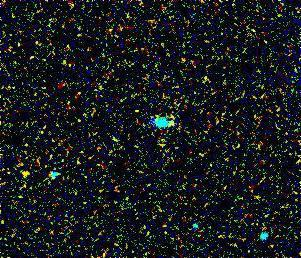star: (13, 158, 43, 188)
